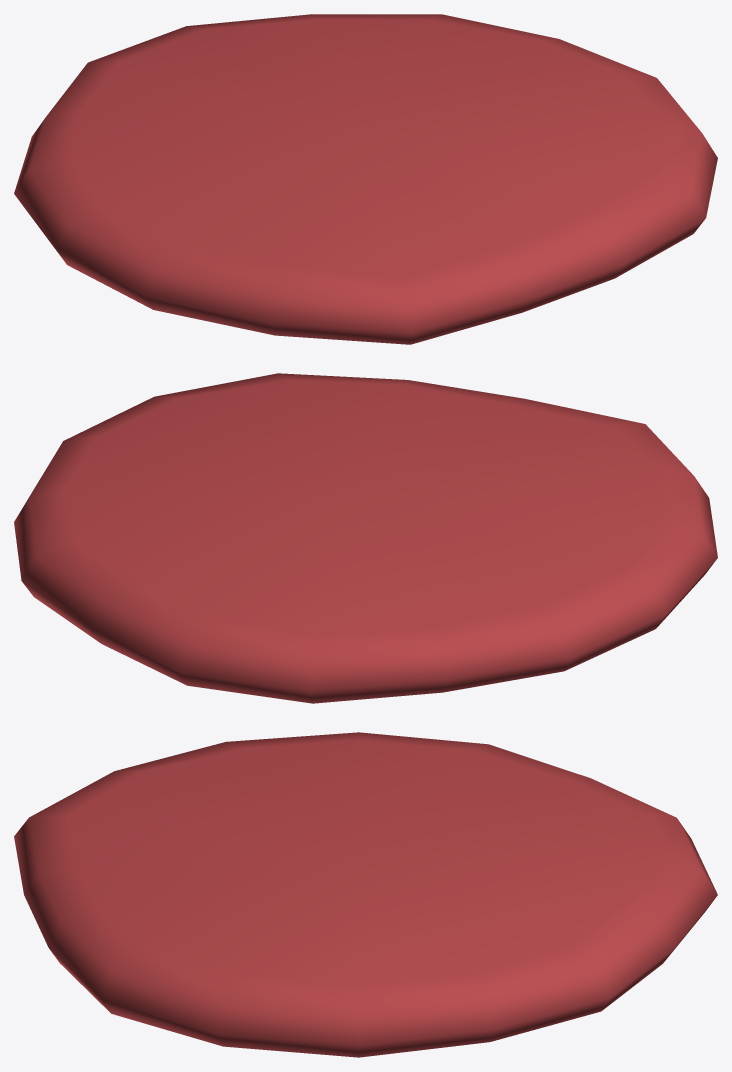
The model's file is medallon.glb.
The picture shows the model from 3 angles, top to bottom: view 1: azimuth 30°, elevation 25°; view 2: azimuth 150°, elevation 25°; view 3: azimuth 270°, elevation 25°; orthographic projection.
Parts seen in each view (by area): view 1: pieza_carne; view 2: pieza_carne; view 3: pieza_carne.
Boxes of the visible parts, x1,y1,x2,y2 form: pieza_carne: [14, 14, 717, 344]; pieza_carne: [14, 373, 717, 703]; pieza_carne: [14, 732, 717, 1057].
Bounding box in the file's own units: 0.11 × 0.012 × 0.11.
